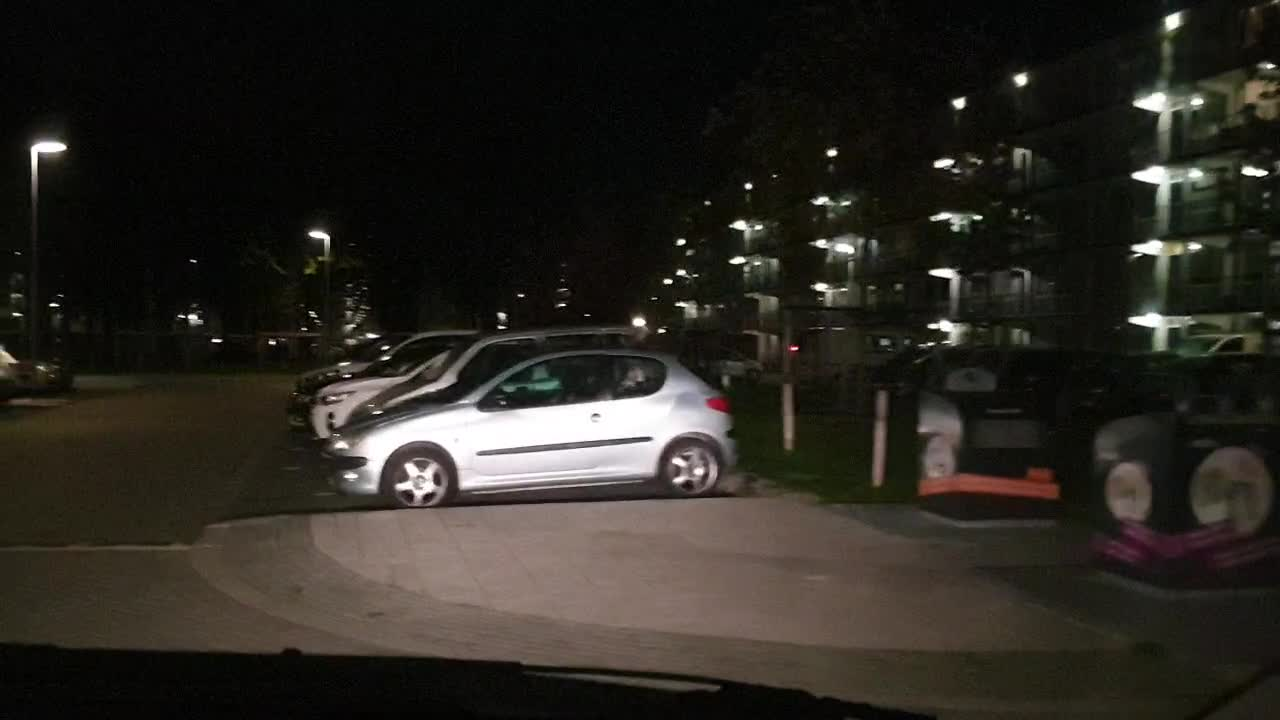car: (312, 358, 740, 499)
